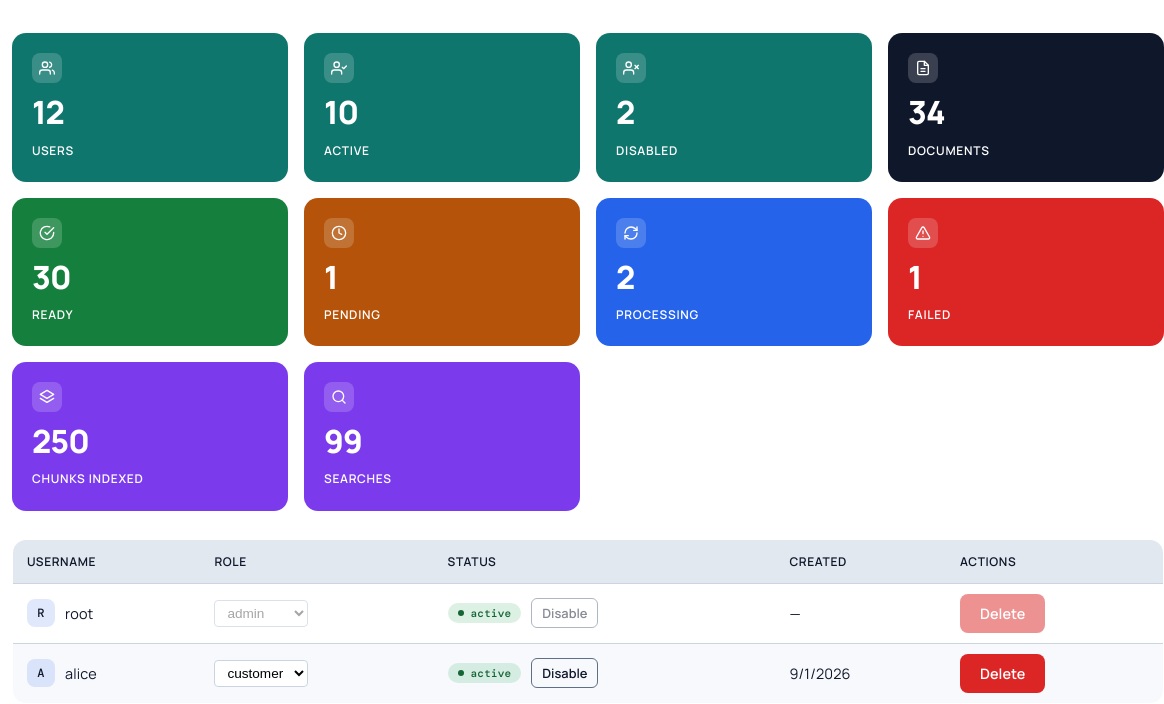
Test case: AdminPage › shows an error when toggling fails
(page scrolled)
Click the button with aria-label "Disable alice" at {"x": 565, "y": 673}, box [531,658,598,688]
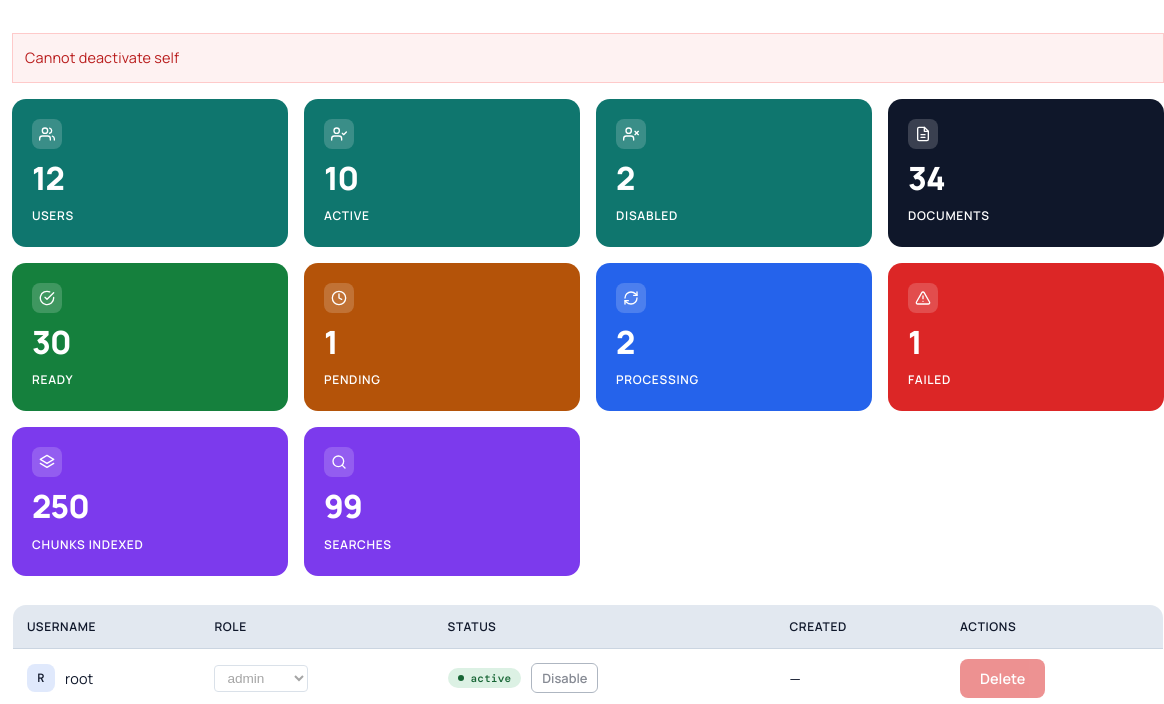
Expected: the text "Cannot deactivate self" is shown, [12,33,1163,83]
